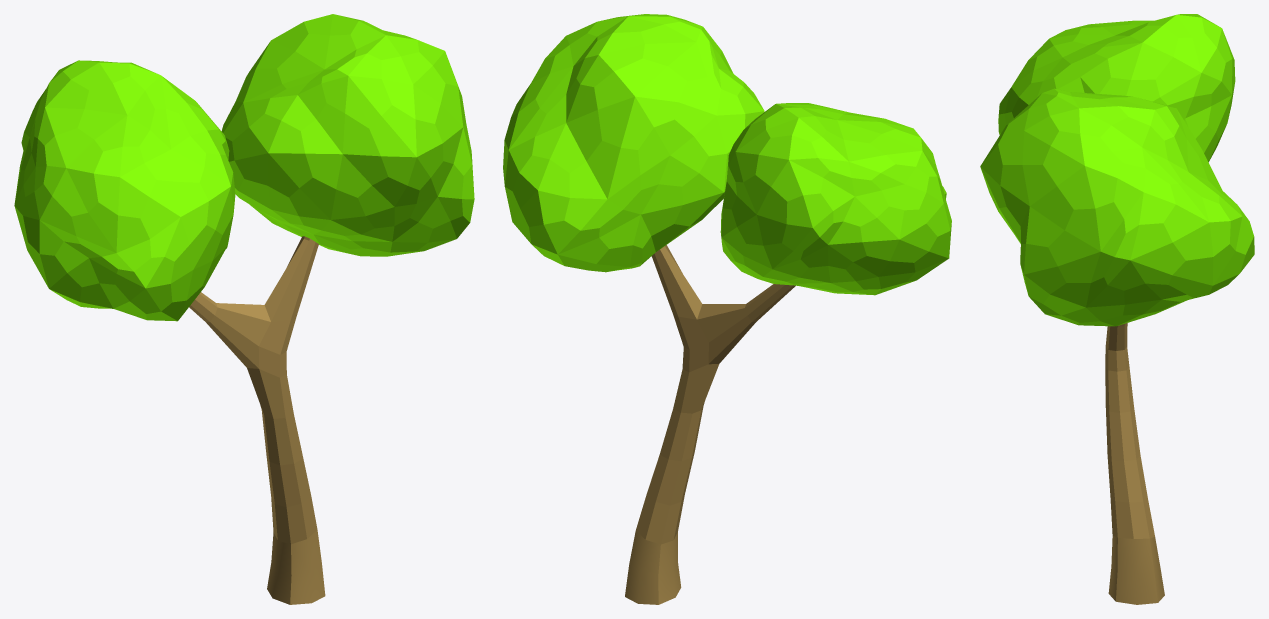
The model's file is Trees.fbx.
3 renders of one model, left to right at view 1: azimuth 30°, elevation 25°; view 2: azimuth 150°, elevation 25°; view 3: azimuth 270°, elevation 25°, orthographic. The views are drawn at different scales.
Parts seen in each view (by area): view 1: Tree_LOD0; view 2: Tree_LOD0; view 3: Tree_LOD0.
Boxes of the visible parts, x1,y1,x2,y2 form: Tree_LOD0: (14,14,474,604); Tree_LOD0: (503,14,951,604); Tree_LOD0: (980,14,1254,604).
Size of what is drawn, in the model's own units: 2515 by 3121 by 1516.
